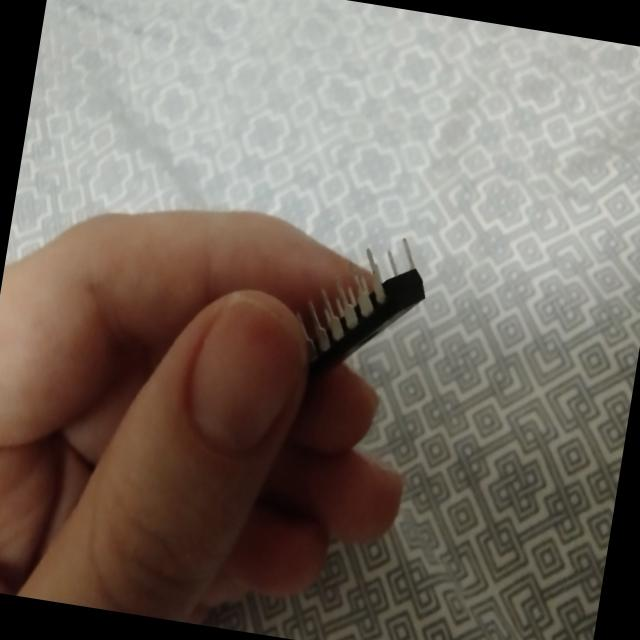atmega: (283, 218, 437, 394)
